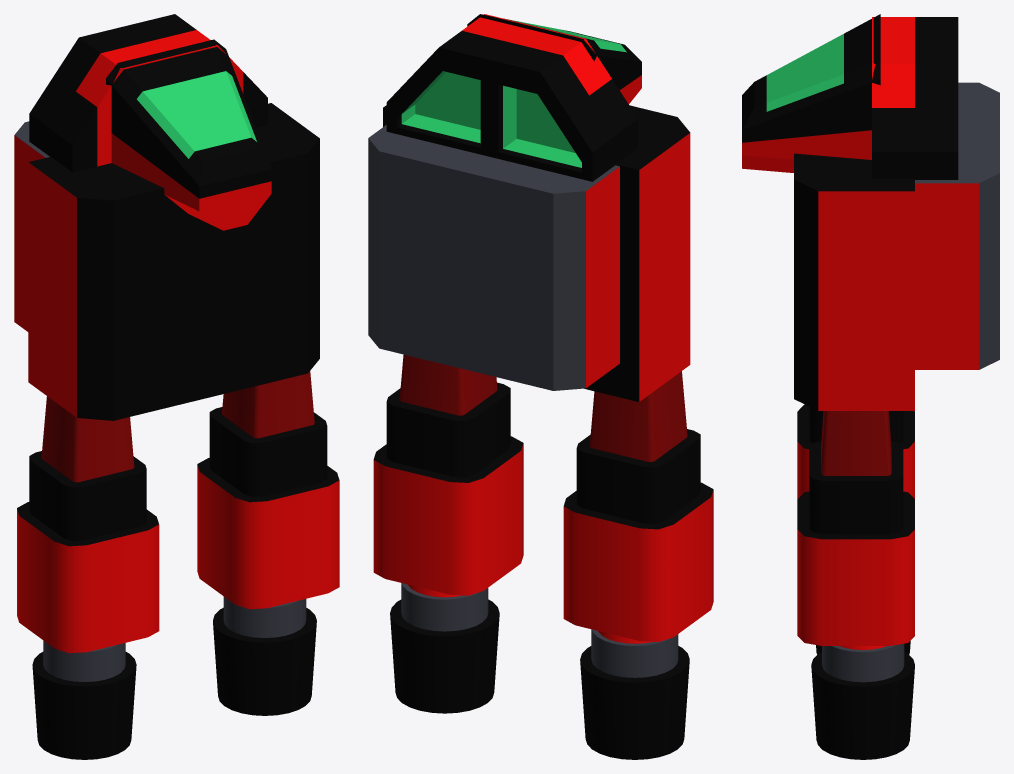
File: player_camera_testobject.fbx
3 renders of one model, left to right at view 1: azimuth 30°, elevation 25°; view 2: azimuth 150°, elevation 25°; view 3: azimuth 270°, elevation 25°, orthographic. The views are drawn at different scales.
Parts seen in each view (by area): view 1: hull_upper (×2), engine_turbineRounded (×2), hull_cockpitPoint, engine_round (×2), engine_flat (×2); view 2: hull_upper (×2), engine_turbineRounded (×2), engine_flat (×2), engine_round (×2), hull_cockpitPoint; view 3: hull_upper (×2), engine_turbineRounded (×2), hull_cockpitPoint, engine_flat (×2), engine_round.
Part boxes in pixels (bbox=[...]): hull_upper (×2): bbox=[14, 103, 319, 420]; engine_turbineRounded (×2): bbox=[17, 371, 339, 653]; hull_cockpitPoint: bbox=[106, 39, 271, 230]; engine_round (×2): bbox=[32, 596, 316, 759]; engine_flat (×2): bbox=[29, 14, 267, 172]; hull_upper (×2): bbox=[368, 105, 690, 401]; engine_turbineRounded (×2): bbox=[373, 354, 713, 641]; engine_flat (×2): bbox=[386, 14, 638, 181]; engine_round (×2): bbox=[390, 583, 689, 759]; hull_cockpitPoint: bbox=[467, 14, 641, 104]; hull_upper (×2): bbox=[794, 82, 999, 410]; engine_turbineRounded (×2): bbox=[797, 404, 914, 645]; hull_cockpitPoint: bbox=[742, 14, 880, 172]; engine_flat (×2): bbox=[872, 17, 958, 179]; engine_round: bbox=[811, 643, 914, 759].
Bounding box in the file's own units: 9.4 × 21 × 7.45.
